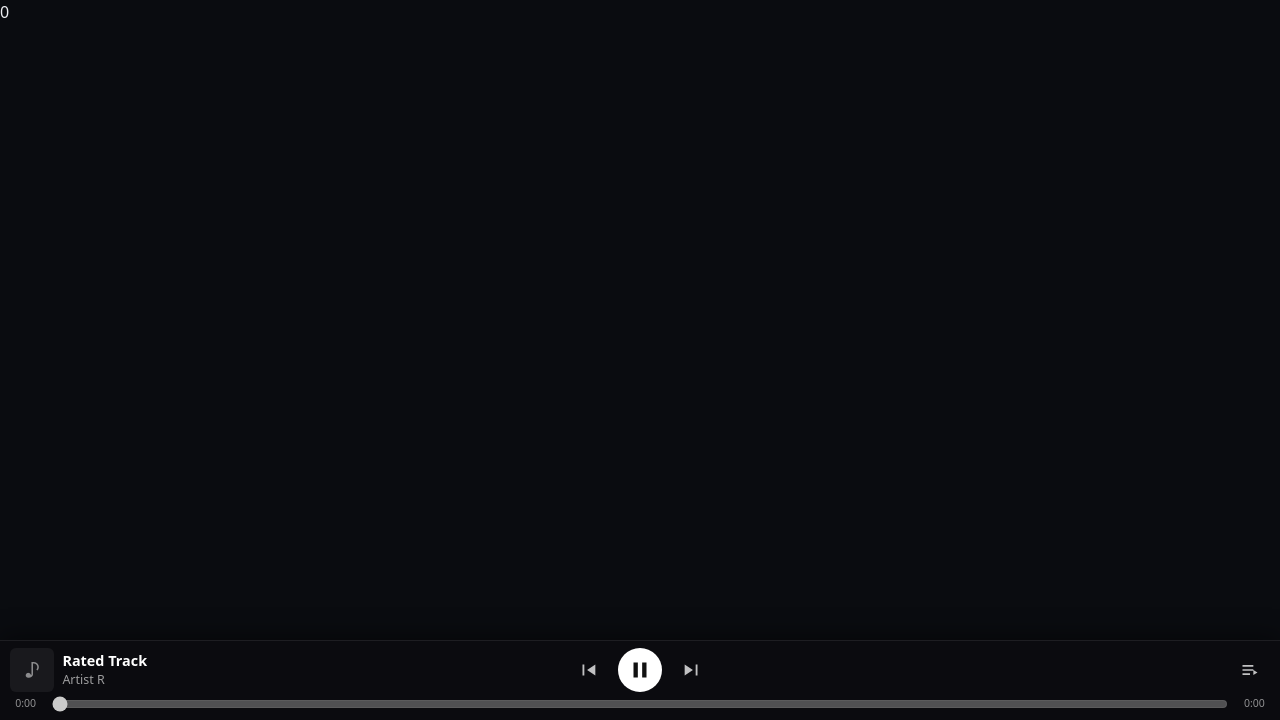
it: NowPlayingBar — compact mobile layout › full player — thumbs (music-track-feedback) › renders ThumbButtons as the leading item of the bottom row when videoId is defined
The width and height of the screenshot is (1280, 720).
Click the button with aria-label "Abrir reproductor: Rated Track": (32, 670) [8,648,564,692]
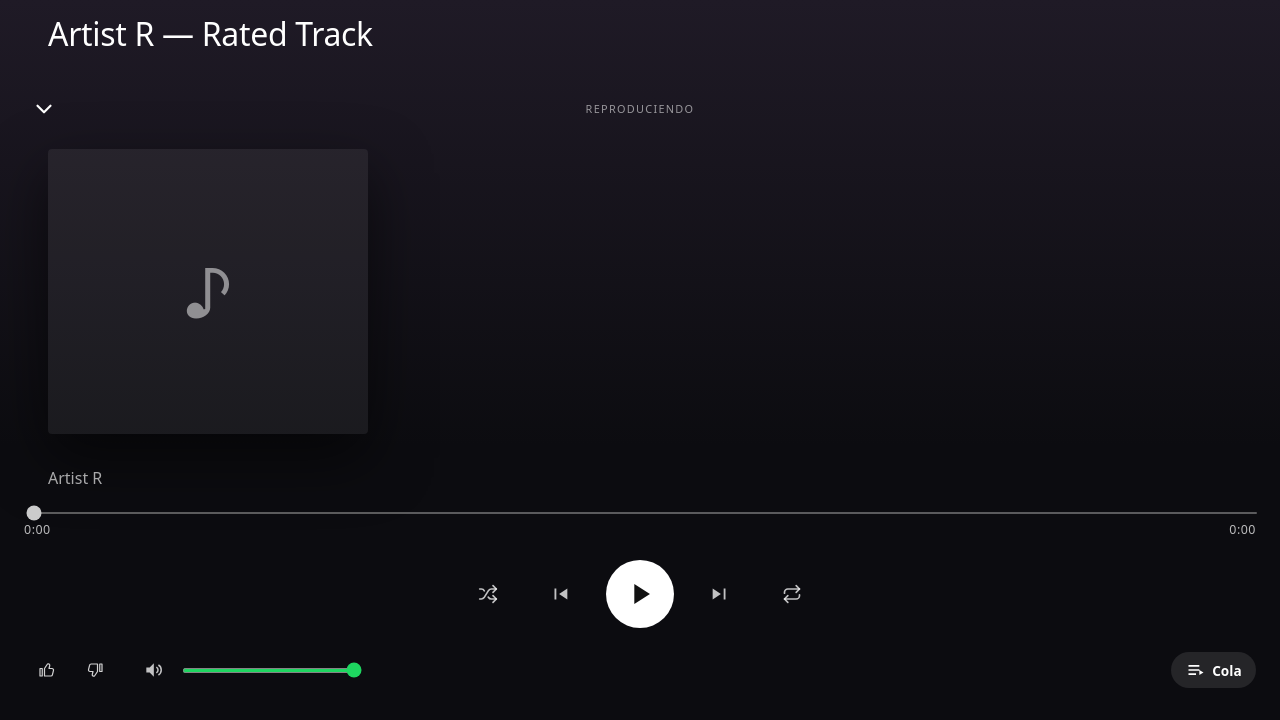
Expected: the button named "Me gusta" is shown, [24,648,68,692]
